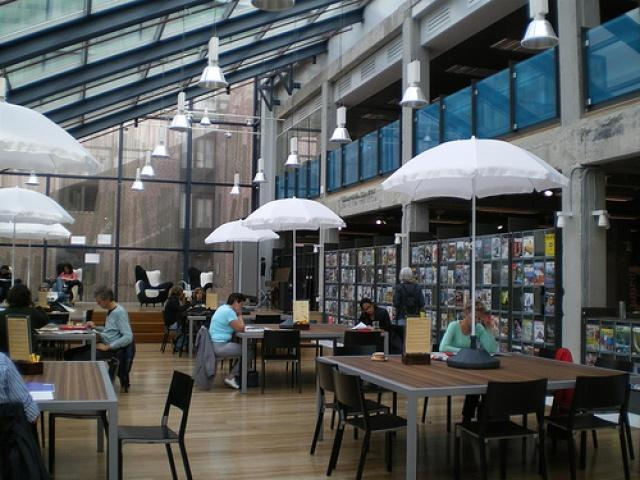Kursi: (453, 378, 550, 479), (329, 366, 406, 479), (117, 369, 195, 479)
Meja: (322, 350, 631, 412), (33, 359, 121, 479)
